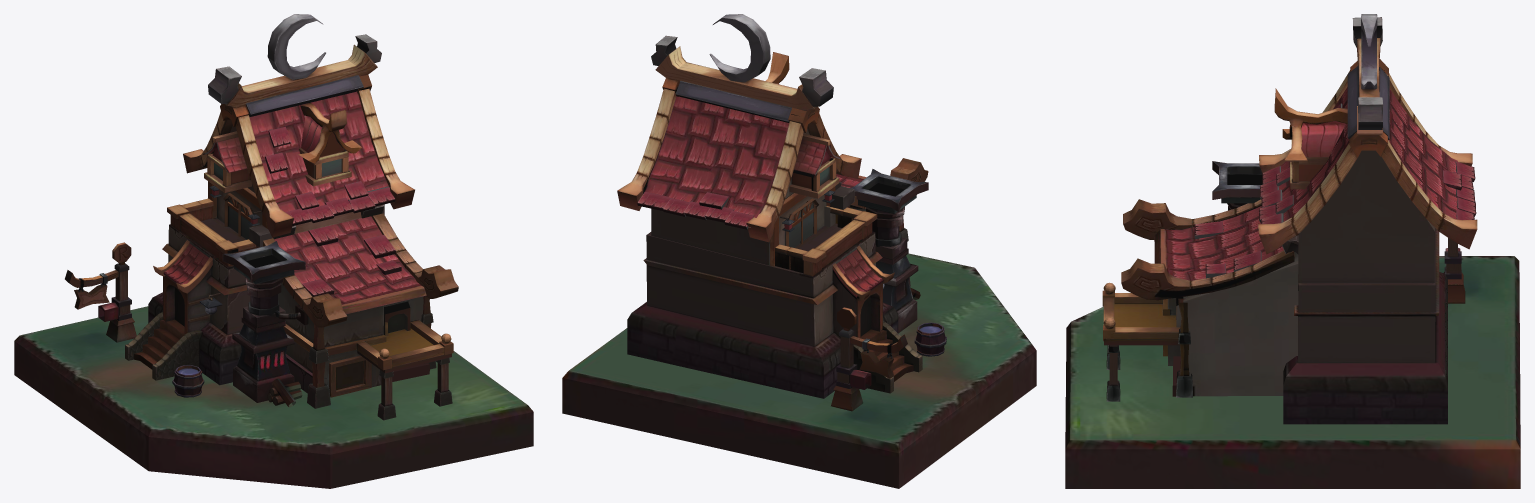
The model's file is house_lowpoly (1).glb.
The picture shows the model from 3 angles, left to right: view 1: azimuth 30°, elevation 25°; view 2: azimuth 150°, elevation 25°; view 3: azimuth 270°, elevation 25°; orthographic projection. The views are drawn at different scales.
Parts seen in each view (by area): view 1: Object_4, Object_2, Object_3; view 2: Object_2, Object_4, Object_3; view 3: Object_4, Object_2, Object_3.
Boxes of the visible parts, <box> form: Object_4: <box>14,186,533,488</box>; Object_2: <box>125,14,414,385</box>; Object_3: <box>249,91,458,420</box>; Object_2: <box>617,14,922,398</box>; Object_4: <box>562,169,1036,488</box>; Object_3: <box>643,96,928,286</box>; Object_4: <box>1065,161,1520,488</box>; Object_2: <box>1194,14,1477,424</box>; Object_3: <box>1102,87,1457,401</box>.
Bounding box in the file's own units: 841 × 893 × 891.
3 materials, 3 textured.
